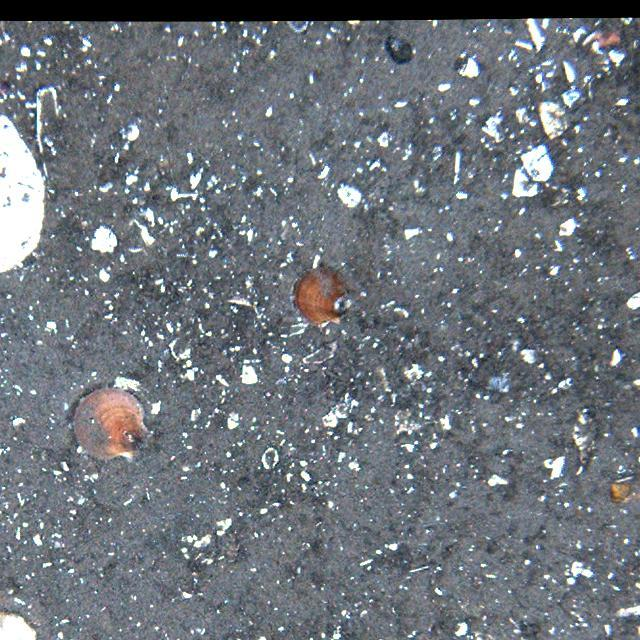scallop: (72, 388, 157, 464), (289, 261, 352, 330)
